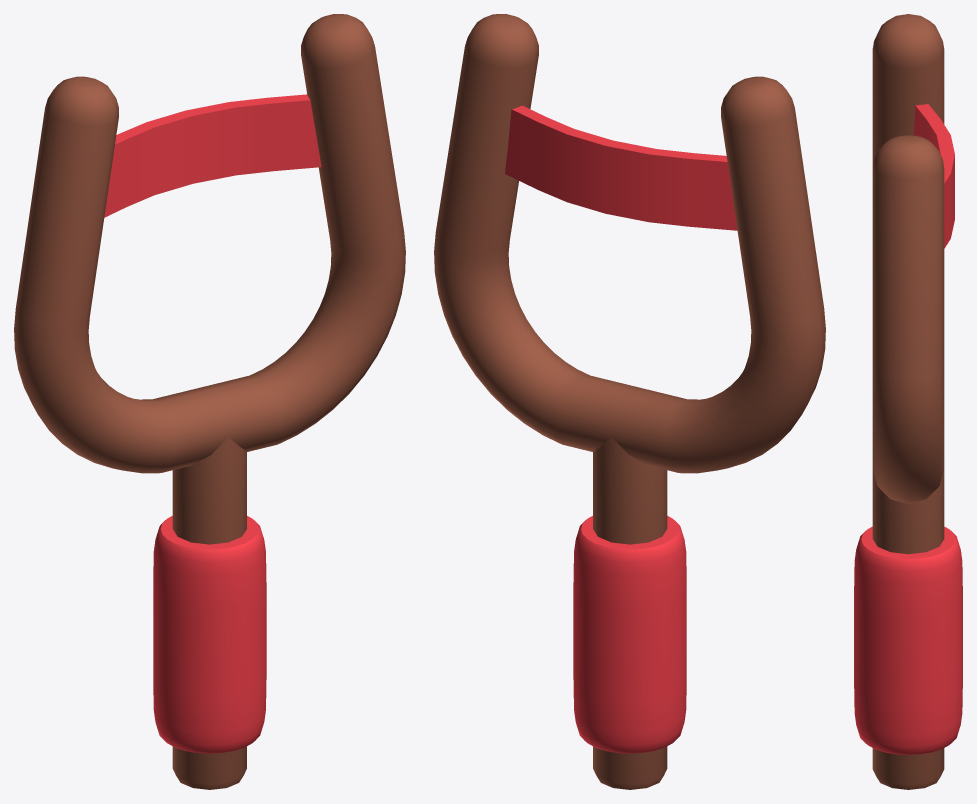
The model's file is slingshot_teamRed.glb.
The picture shows the model from 3 angles, left to right: view 1: azimuth 30°, elevation 25°; view 2: azimuth 150°, elevation 25°; view 3: azimuth 270°, elevation 25°; orthographic projection. The views are drawn at different scales.
Parts seen in each view (by area): view 1: slingshot_teamRed; view 2: slingshot_teamRed; view 3: slingshot_teamRed.
Part boxes in pixels (x1,y1,x2,y2): slingshot_teamRed: (14, 14, 405, 789); slingshot_teamRed: (434, 14, 825, 789); slingshot_teamRed: (854, 14, 962, 789).
Bounding box in the file's own units: 0.2124 × 0.3872 × 0.0546.
